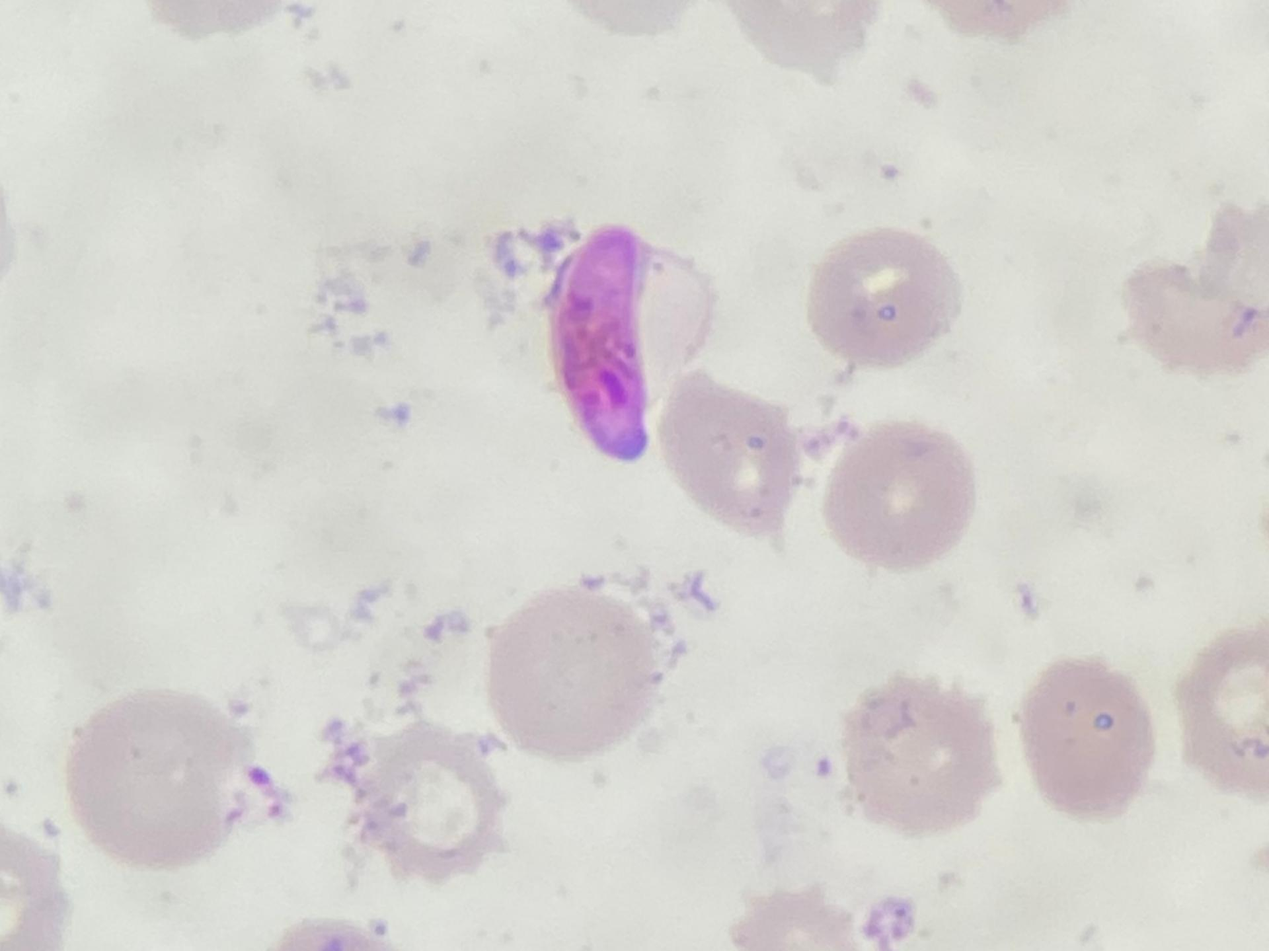Infected: (549, 222, 722, 464)
Uninfected: (66, 693, 242, 864), (486, 592, 652, 753), (355, 724, 502, 890), (820, 420, 980, 571), (844, 678, 995, 835), (1018, 658, 1151, 820), (659, 374, 792, 533), (806, 230, 957, 364), (1175, 635, 1269, 792)
